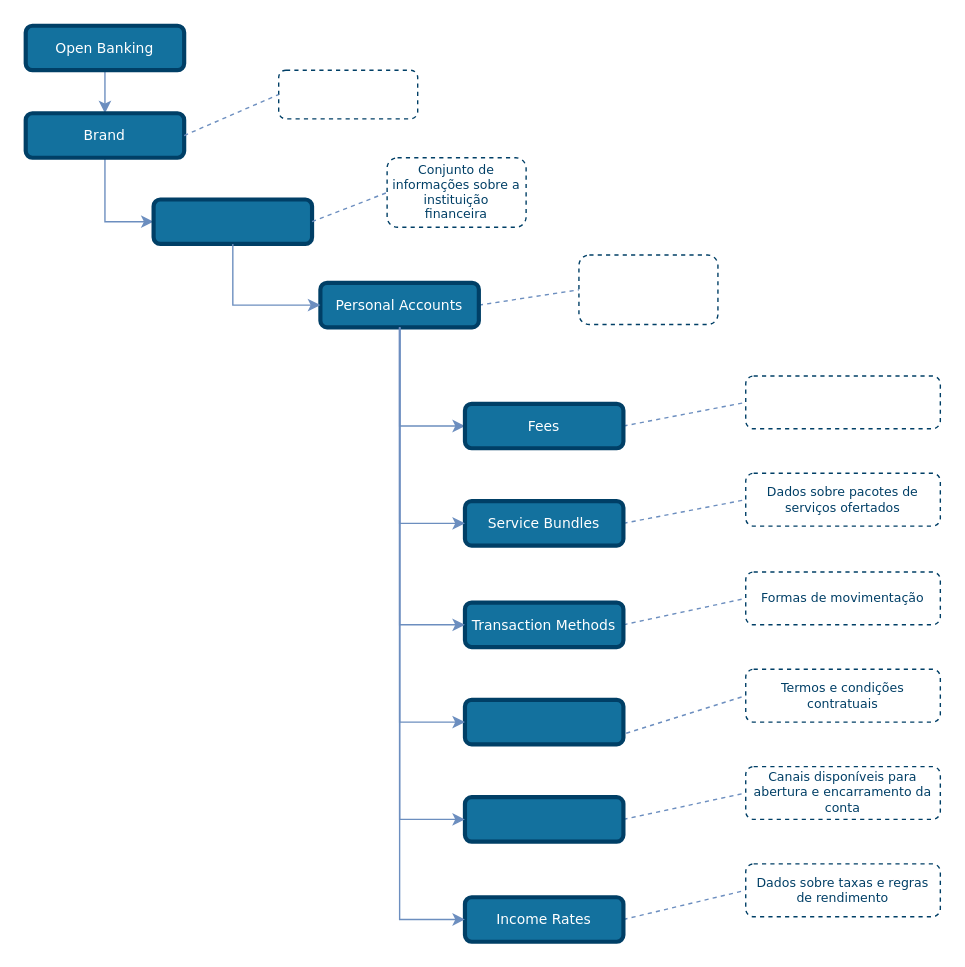
Image size: 965x967. Some labels were removed from this diagram. The shapes that lost their labels are listed below. From the top down, each one's centre as x and y in pixels, then its label:
At (x=347, y=94): "Dados Marca selecionada pelas Organizações".
At (x=232, y=221): "Companies".
At (x=648, y=289): "Agrupador dos produtos de conta bancária para pessoa física".
At (x=842, y=402): "Dados sobre serviços".
At (x=543, y=721): "Terms and Conditions".
At (x=543, y=818): "Opening Closing Channels".
